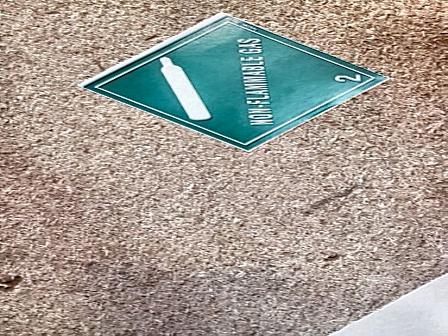non-flammable-gas: (87, 15, 387, 151)
